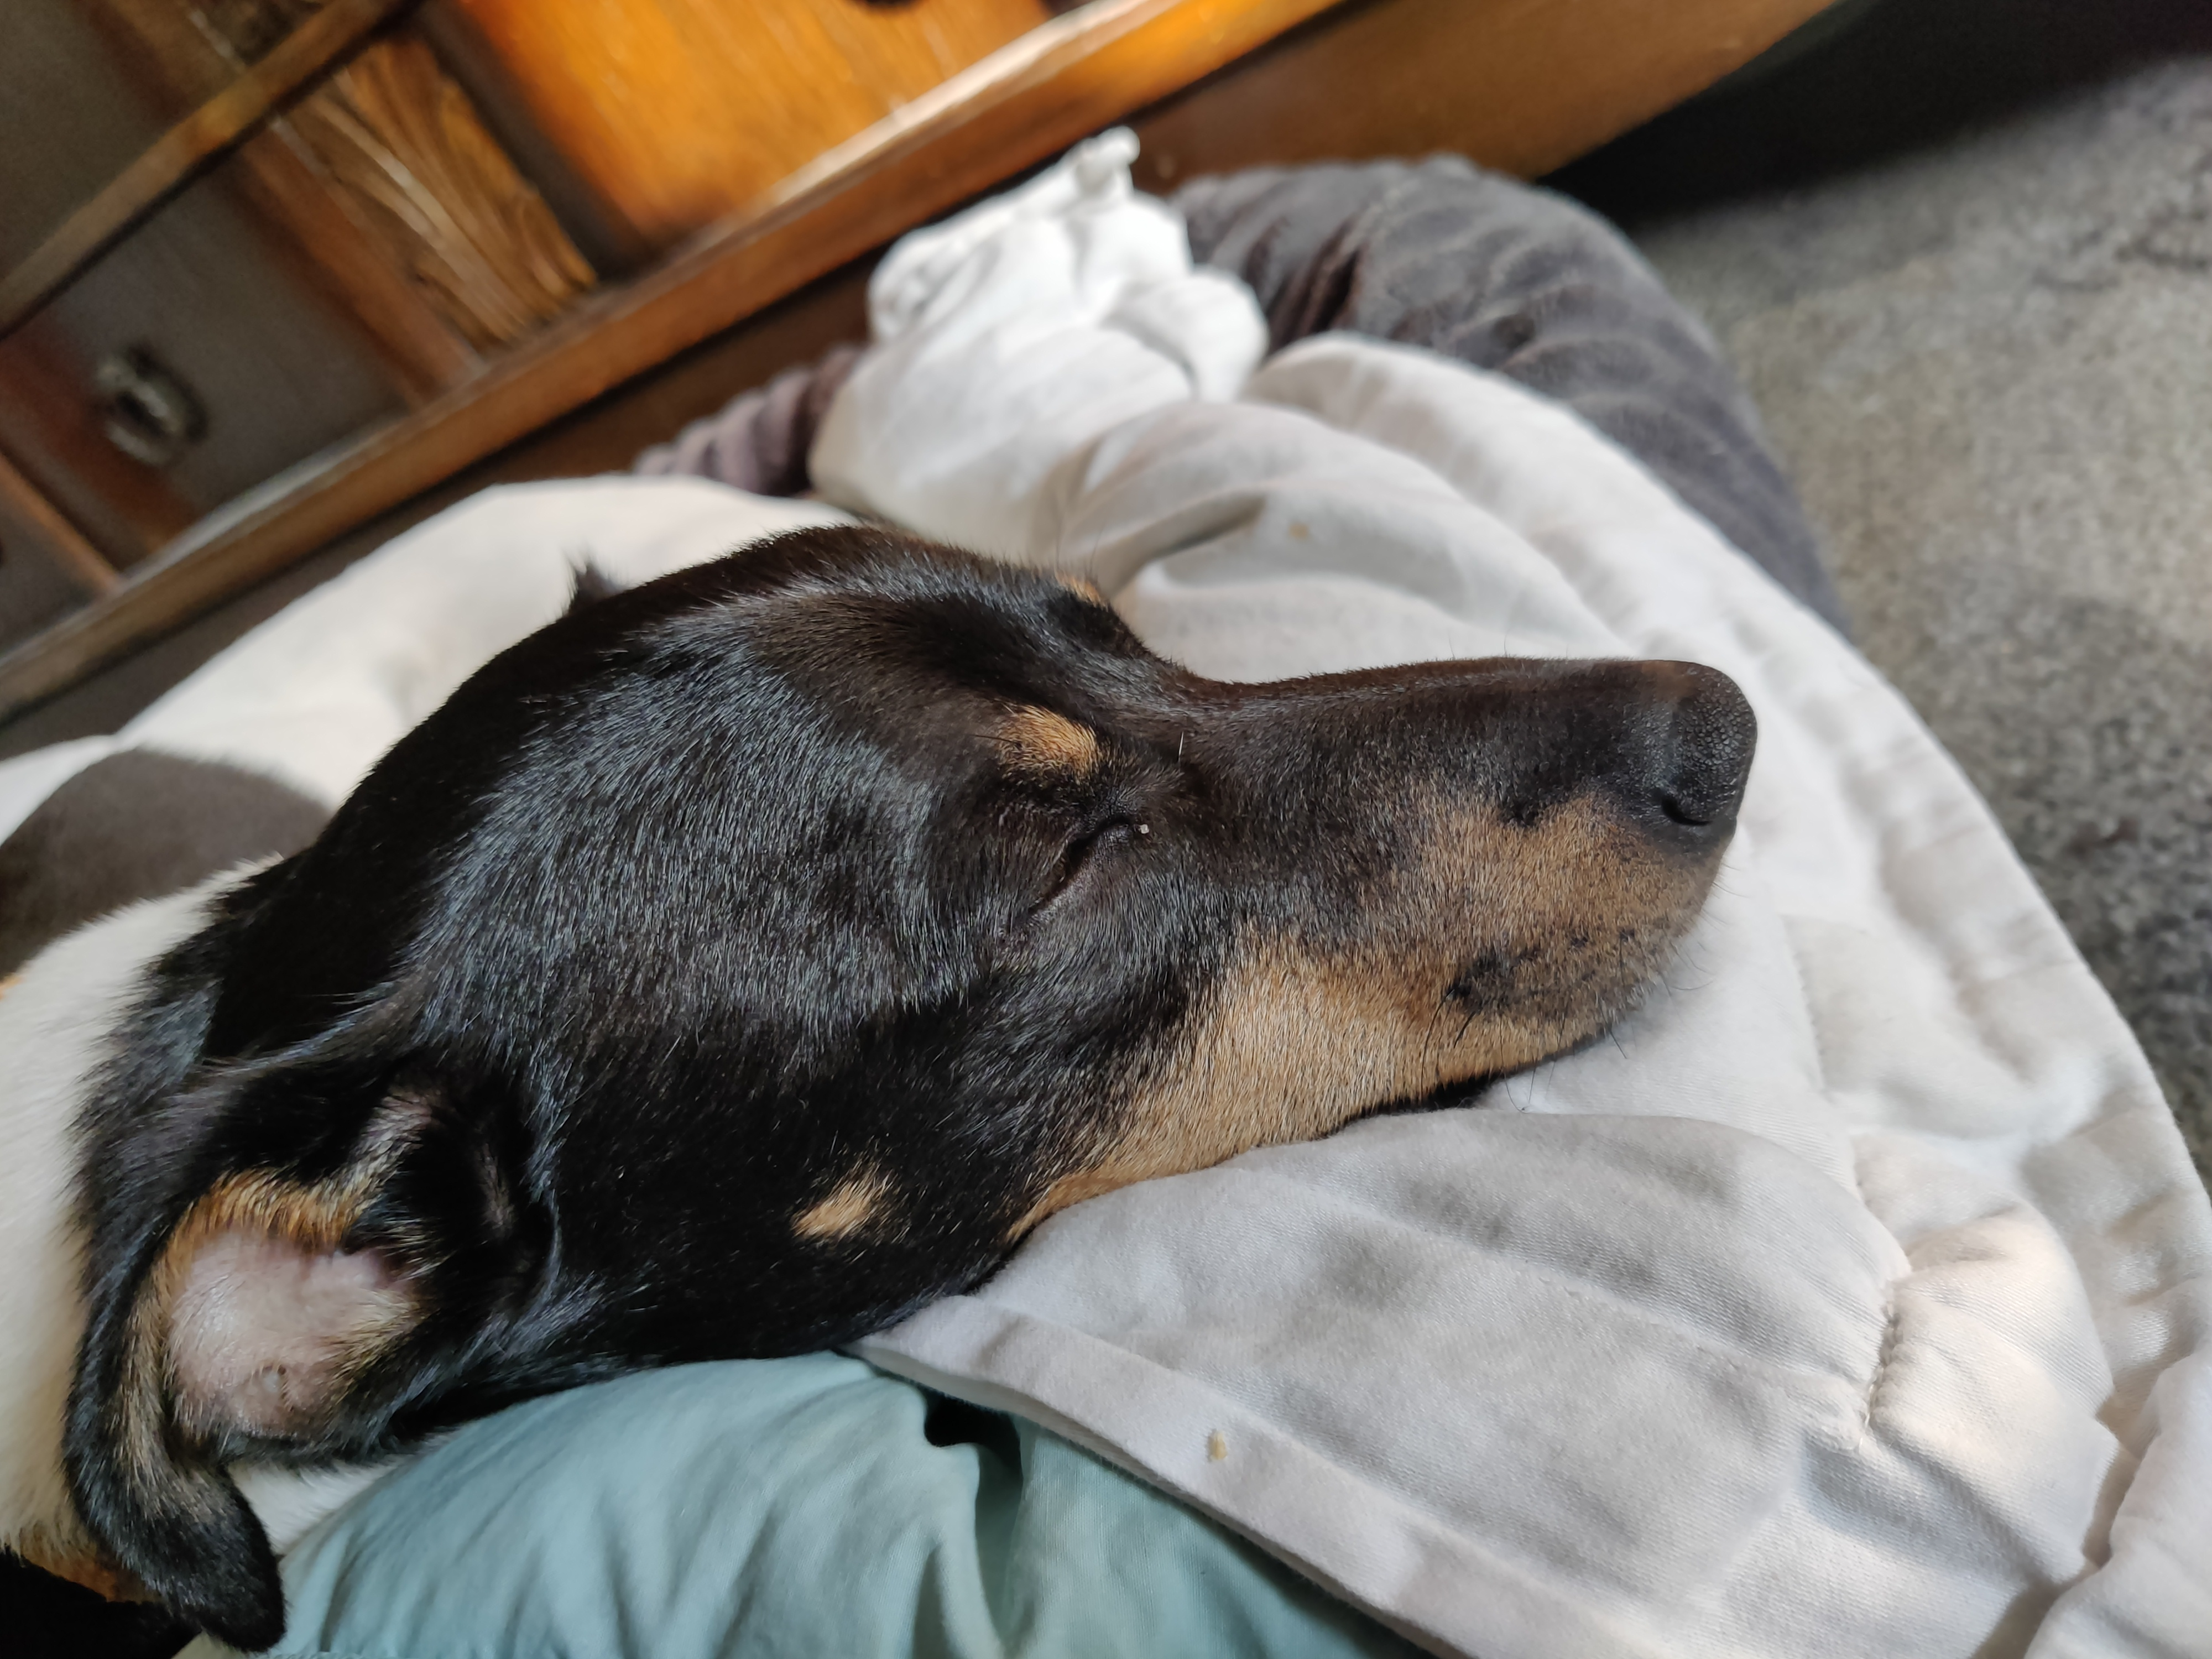Dog: (0, 446, 1768, 1659)
